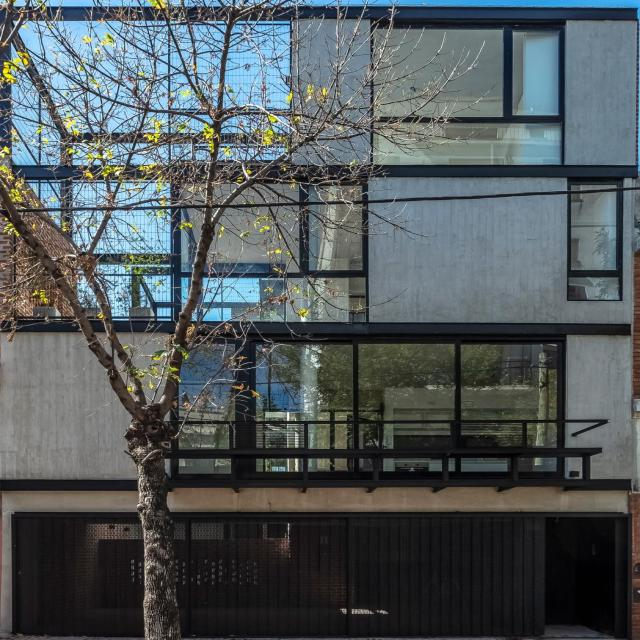wall: (5, 5, 640, 634)
windows: (181, 337, 559, 470), (37, 178, 367, 318), (377, 22, 568, 158), (568, 180, 624, 298)
